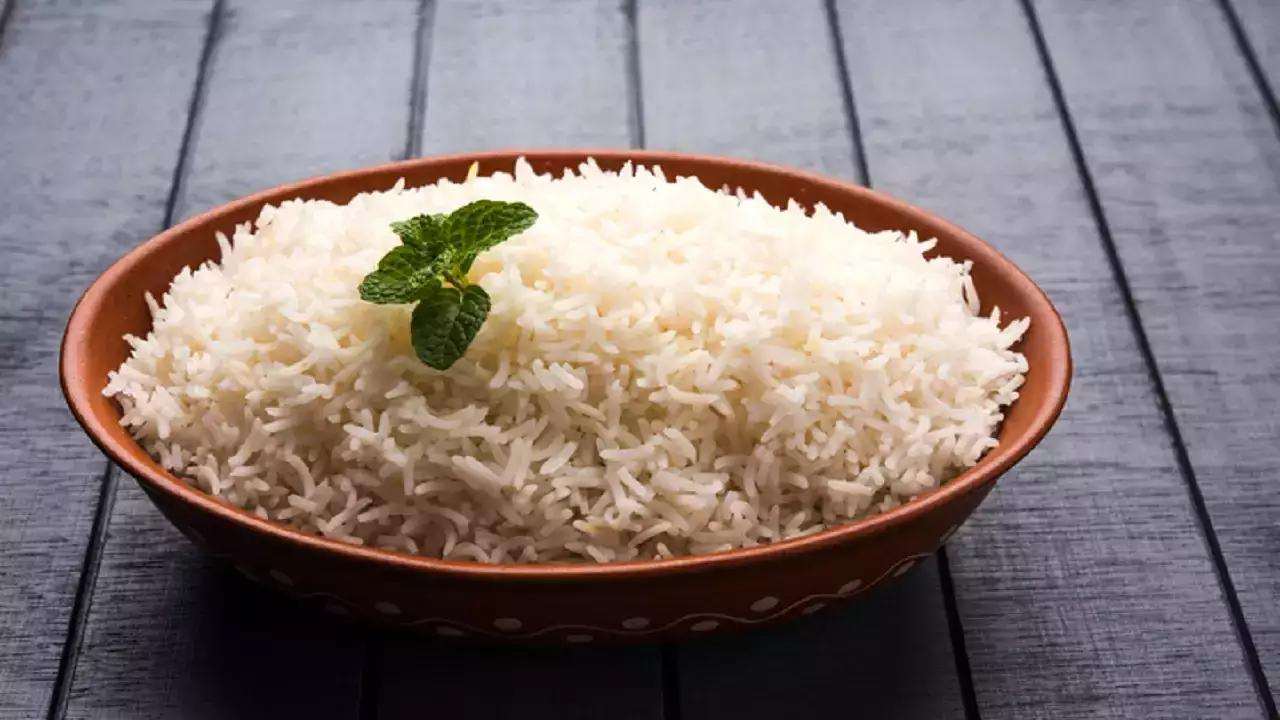rice: (111, 164, 1028, 567)
